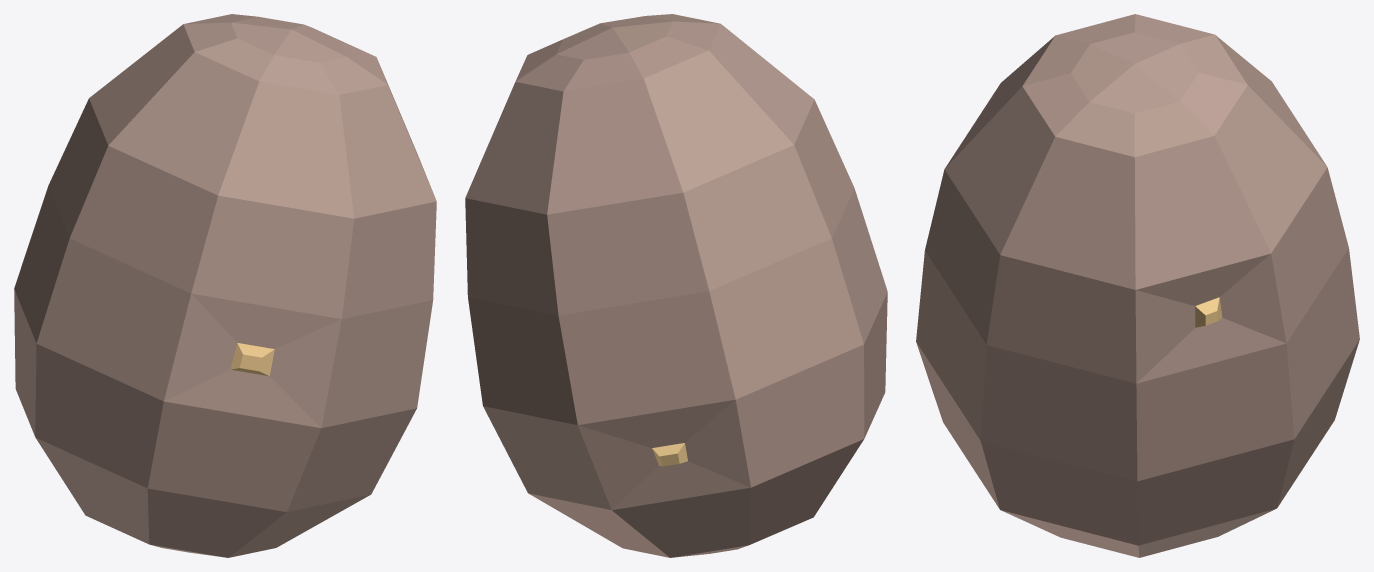
Rendered from normal-potato.fbx.
3 renders of one model, left to right at view 1: azimuth 30°, elevation 25°; view 2: azimuth 150°, elevation 25°; view 3: azimuth 270°, elevation 25°, orthographic. The views are drawn at different scales.
Visible parts, largest first — view 1: Potato_Circle.021; view 2: Potato_Circle.021; view 3: Potato_Circle.021.
Part boxes in pixels (bbox=[...]): Potato_Circle.021: bbox=[14, 14, 436, 557]; Potato_Circle.021: bbox=[465, 14, 887, 557]; Potato_Circle.021: bbox=[916, 14, 1359, 557].
Size of the model in its own units: 813 by 1010 by 790.
